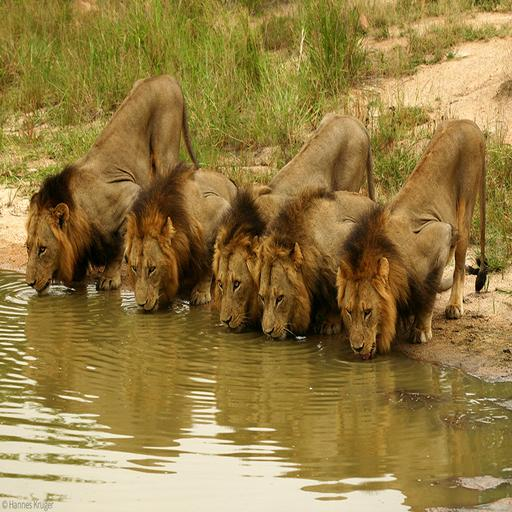Lion: (328, 112, 507, 363), (16, 68, 197, 309), (206, 105, 375, 342), (112, 151, 256, 326), (255, 185, 393, 343)
